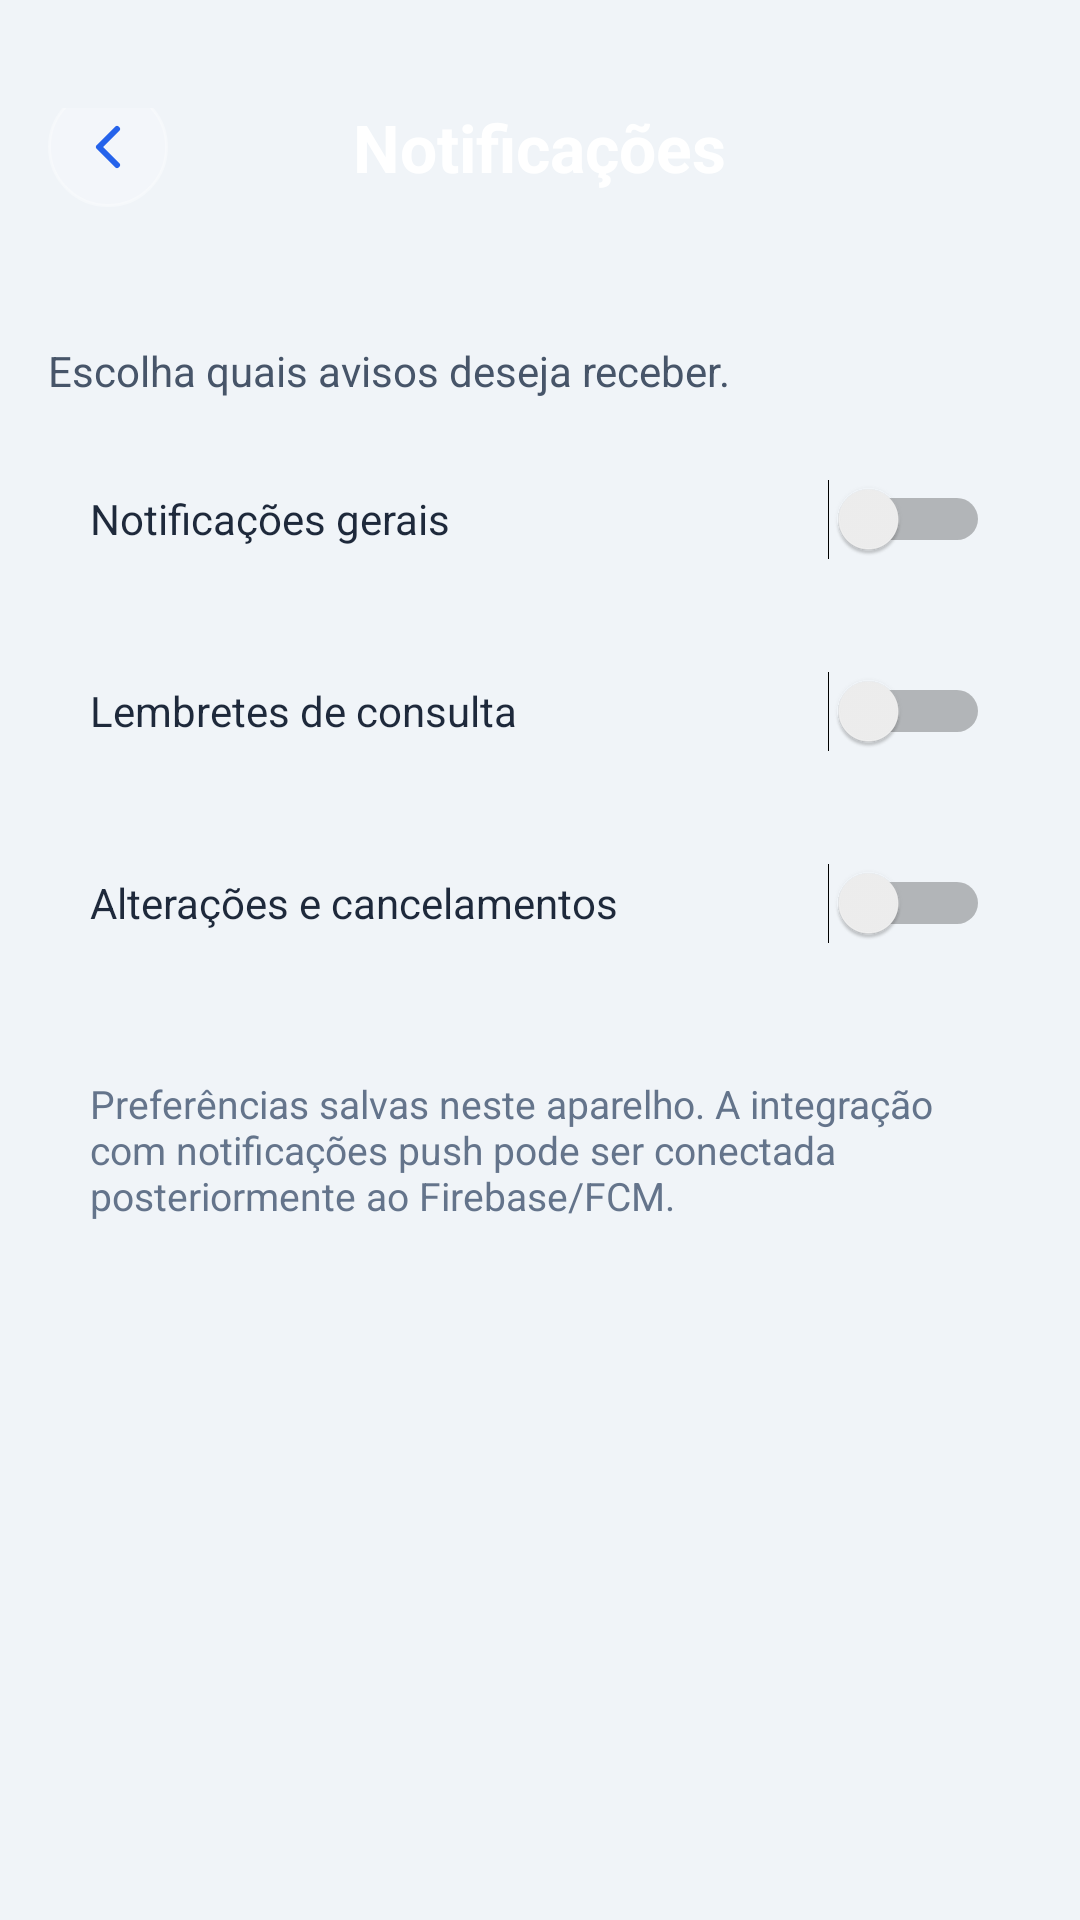

Locate icon controls on the screen. Image size 1080 × 1920, boxes as [left=x1, top=y1, right=x2, bottom=y2].
arrow back: [left=96, top=126, right=120, bottom=168]
